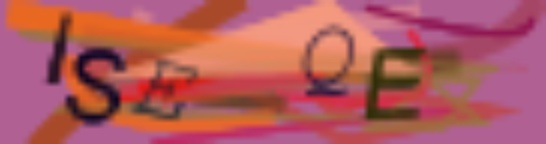E: (361, 42, 429, 122), (132, 57, 199, 121)
I: (40, 10, 75, 91)
Q: (298, 22, 358, 101)
S: (65, 42, 131, 125)
